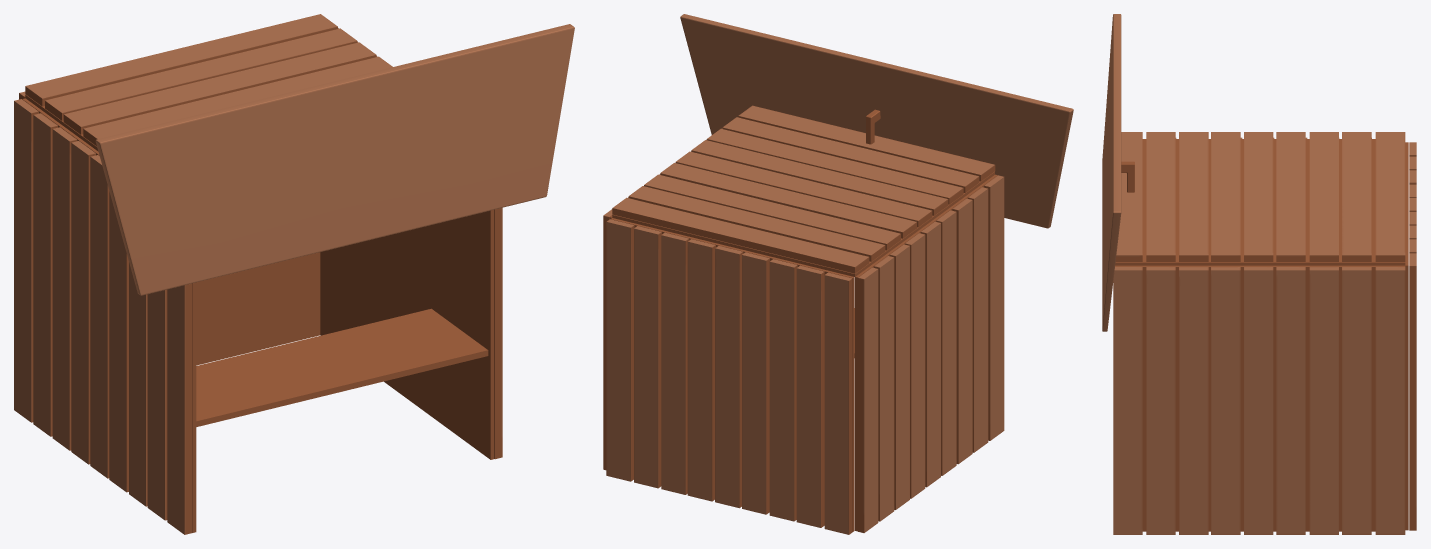
The model's file is BeachStand.fbx.
3 renders of one model, left to right at view 1: azimuth 30°, elevation 25°; view 2: azimuth 150°, elevation 25°; view 3: azimuth 270°, elevation 25°, orthographic. The views are drawn at different scales.
Parts seen in each view (by area): view 1: BeachStand; view 2: BeachStand; view 3: BeachStand.
Boxes of the visible parts, <box> form: BeachStand: <box>14,14,574,534</box>; BeachStand: <box>603,14,1073,534</box>; BeachStand: <box>1102,14,1416,534</box>.
Size of the model in its own units: 7.97 by 6.62 by 5.34.
